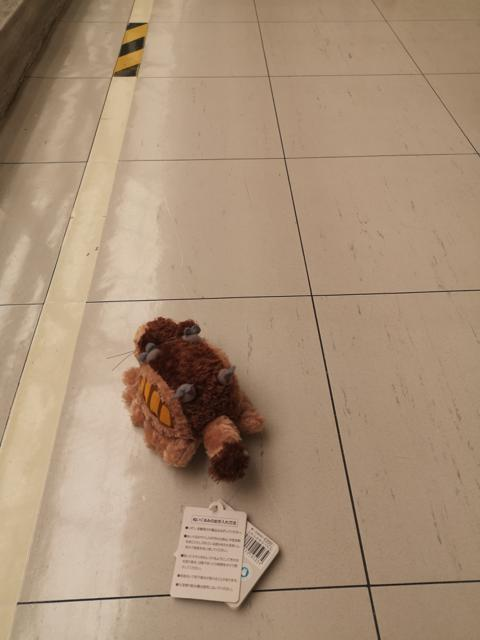nekobus: (106, 313, 275, 484)
